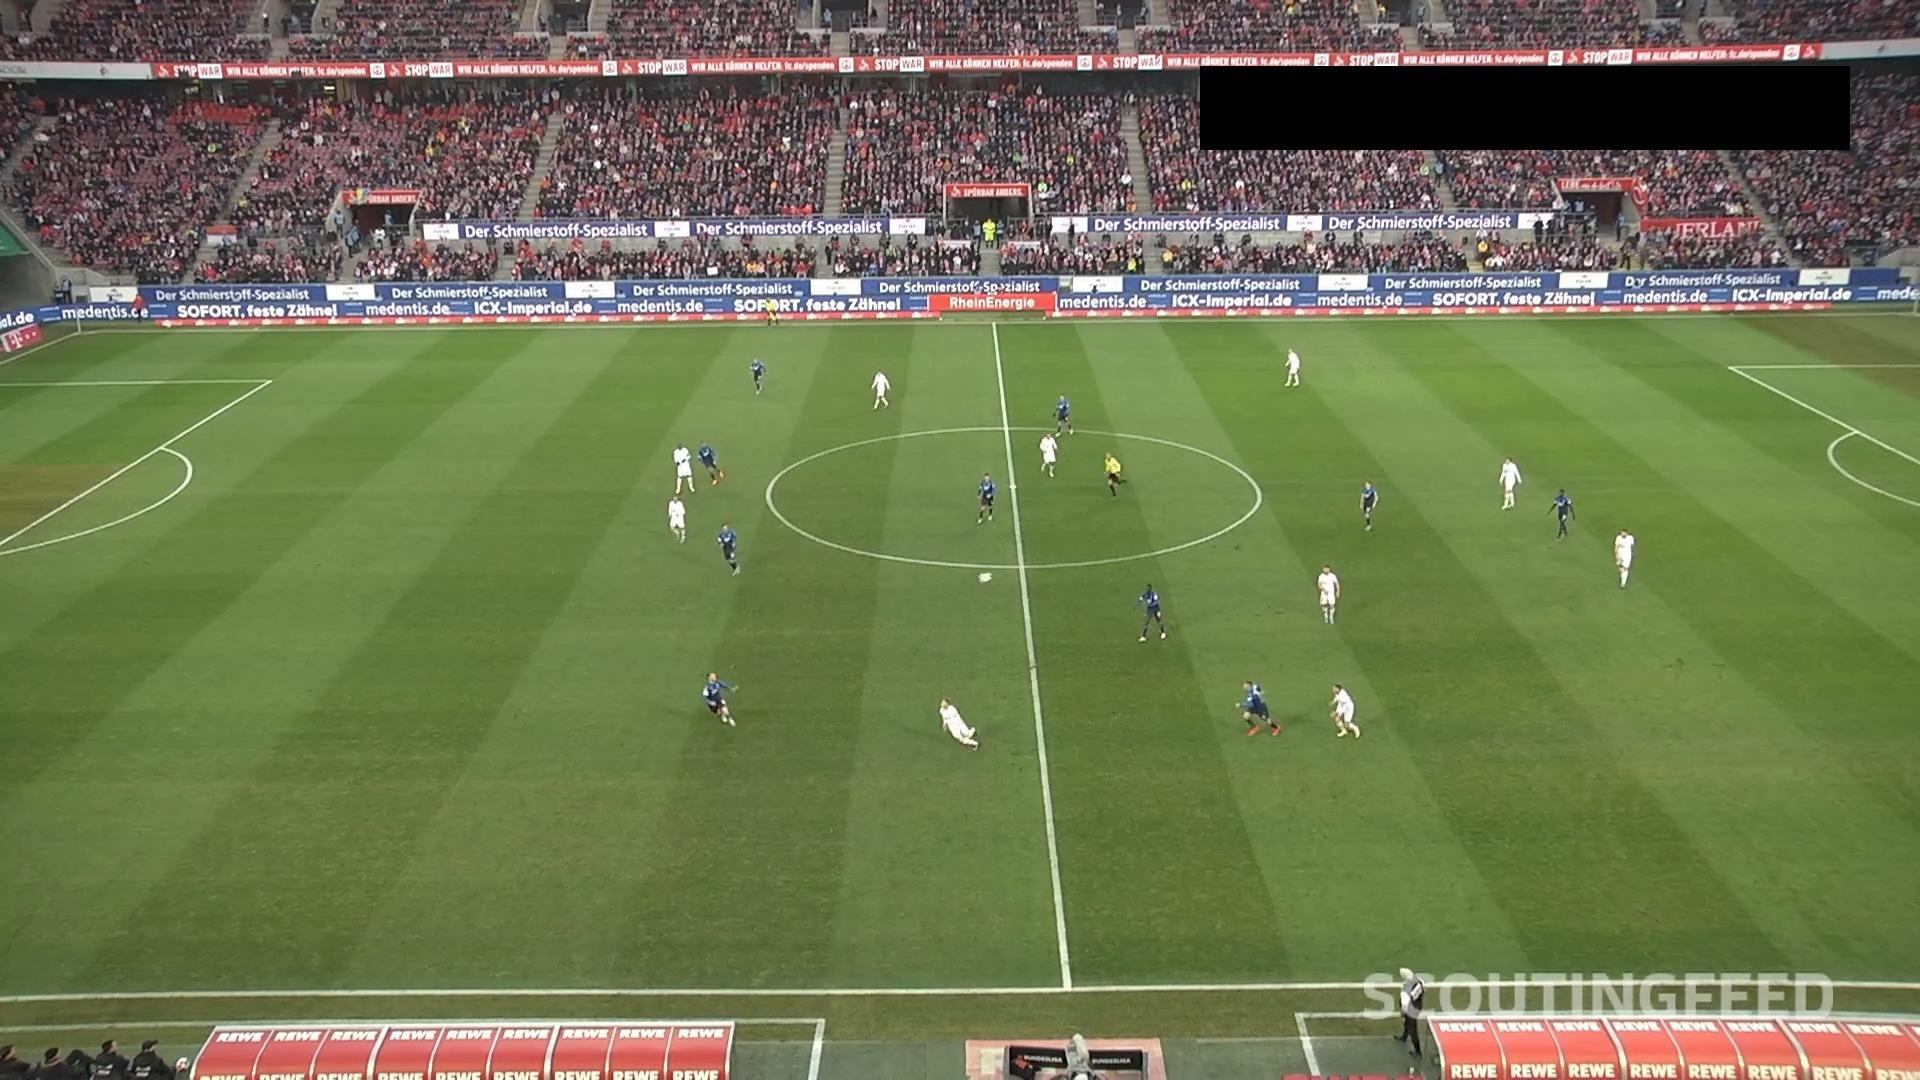ball: (976, 571, 993, 584)
